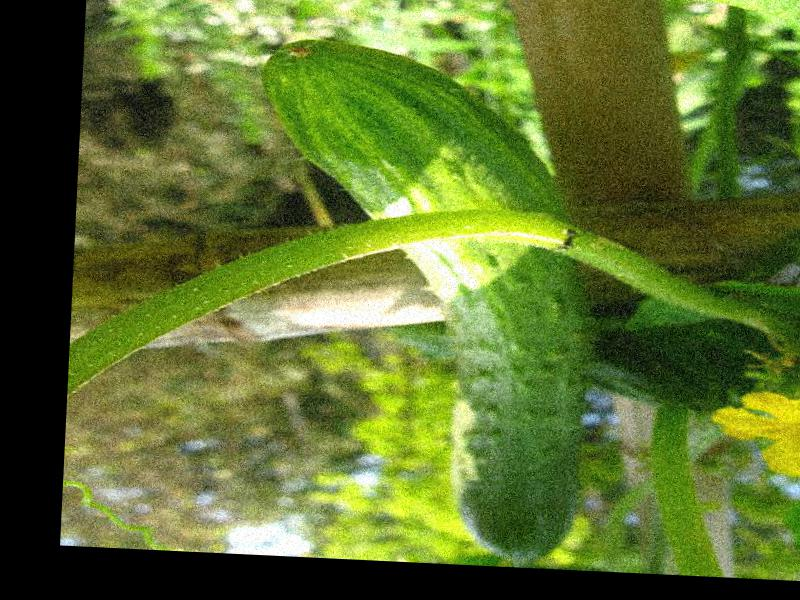Cucumber: (243, 37, 603, 566)
